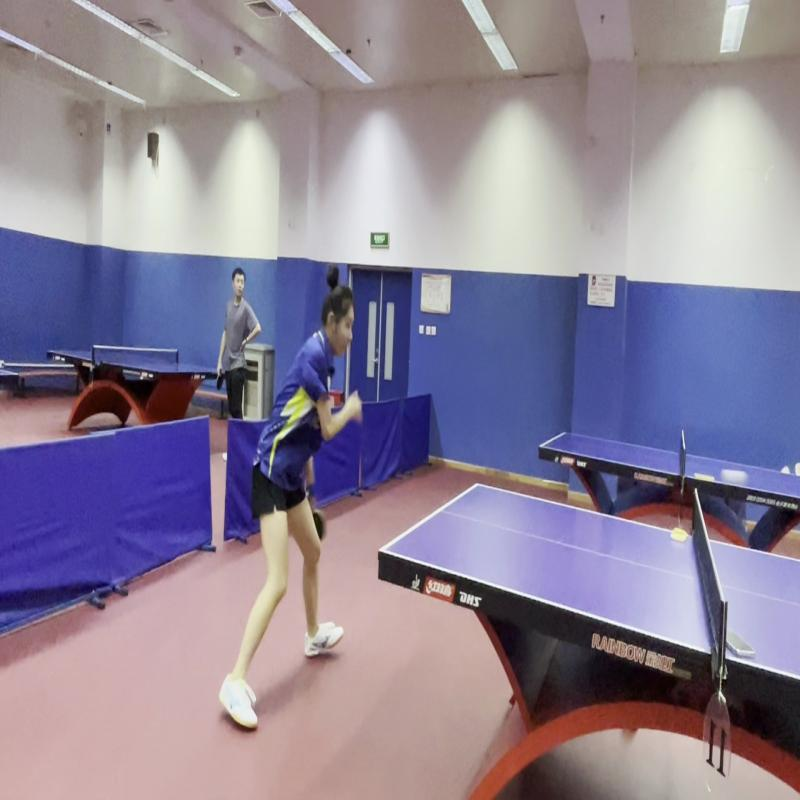bats: (306, 502, 336, 545)
